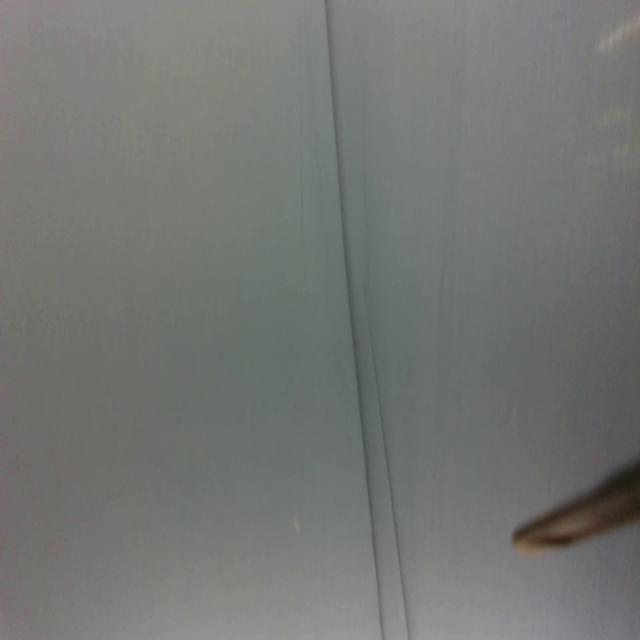crease: (324, 0, 383, 640), (369, 325, 411, 639)
hole: (292, 516, 302, 535)
